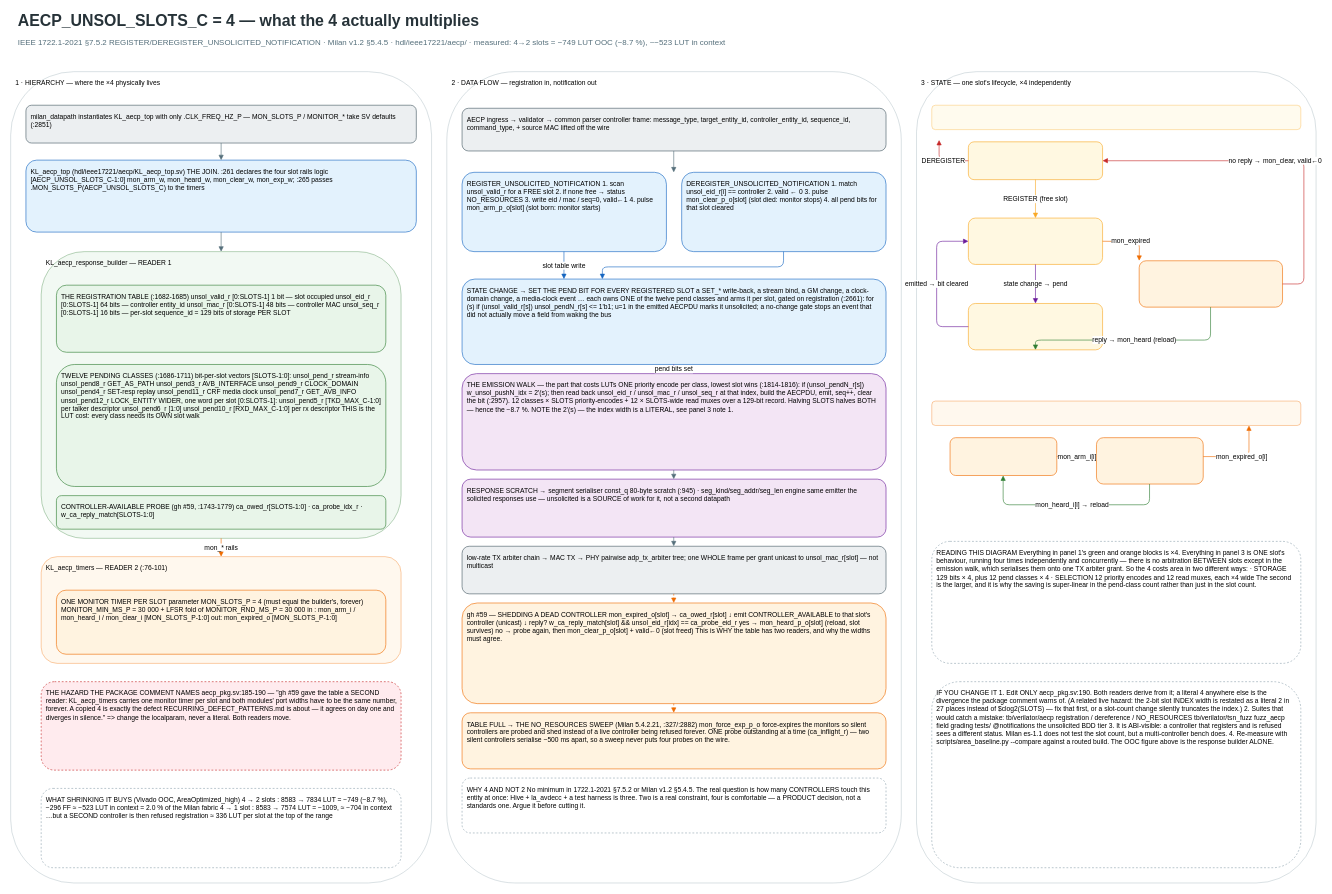
This 1332x894 diagram has some shape labels left out. The shapes that lost their labels are listed below. From the top down, each one's centre as x and y in pixels, then its label:
At point 1116,117: "SLOT LIFECYCLE (per slot i, in the builder)".
At point 1035,160: "FREE unsol_valid_r[i] = 0 monitor stopped".
At point 1035,240: "REGISTERED valid=1, eid/mac held seq counting monitor armed".
At point 1211,283: "PROBE OWED ca_owed_r[i] = 1 CONTROLLER_AVAILABLE in flight".
At point 1035,326: "NOTIFY OWED ≥1 of 12 pend bits set for this slot".
At point 1116,412: "MONITOR TIMER (per slot i, KL_aecp_timers)".
At point 1003,456: "IDLE not counting".
At point 1149,460: "COUNTING MIN 30 000 ms + LFSR fold of RND 30 000 ms".
